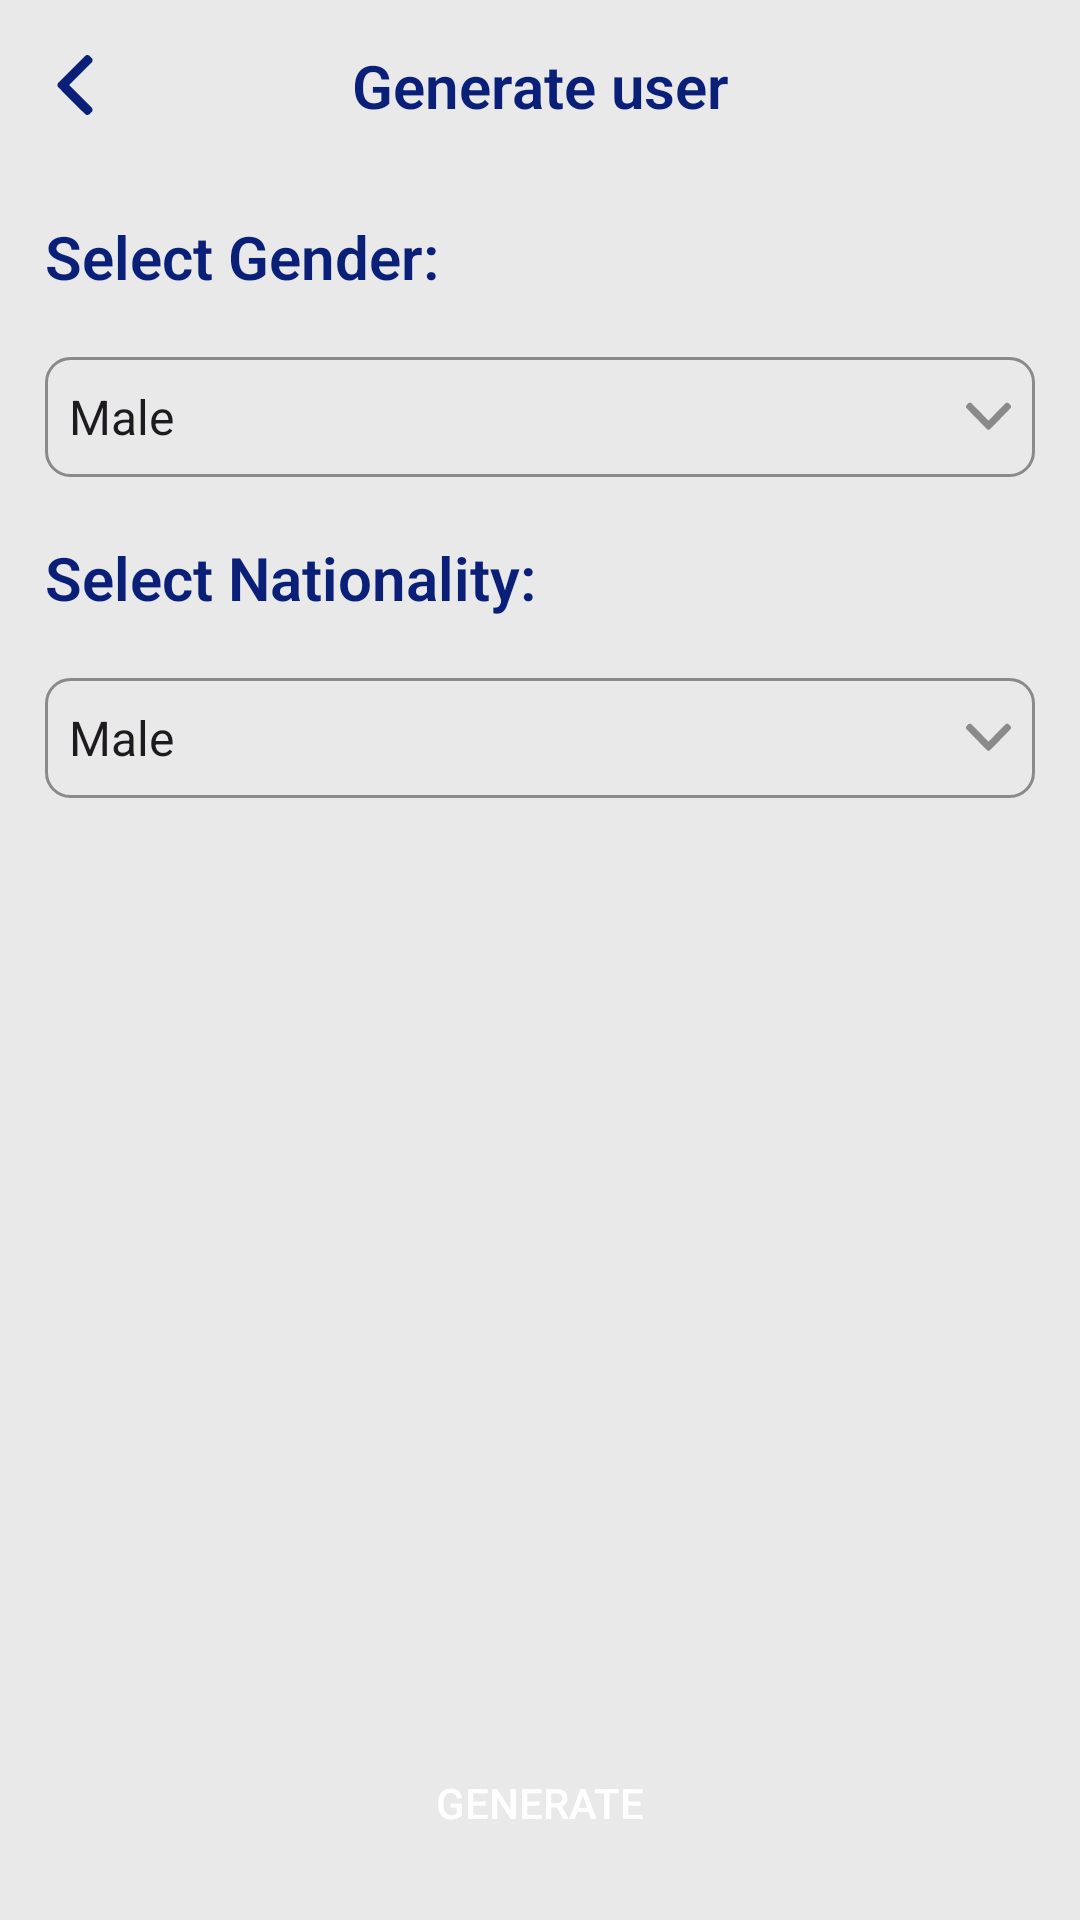

Icon bounding boxes for this 1080×1920 phone screenshot, format (x1, y1, x2, y2):
left arrow: (57, 55, 93, 115)
